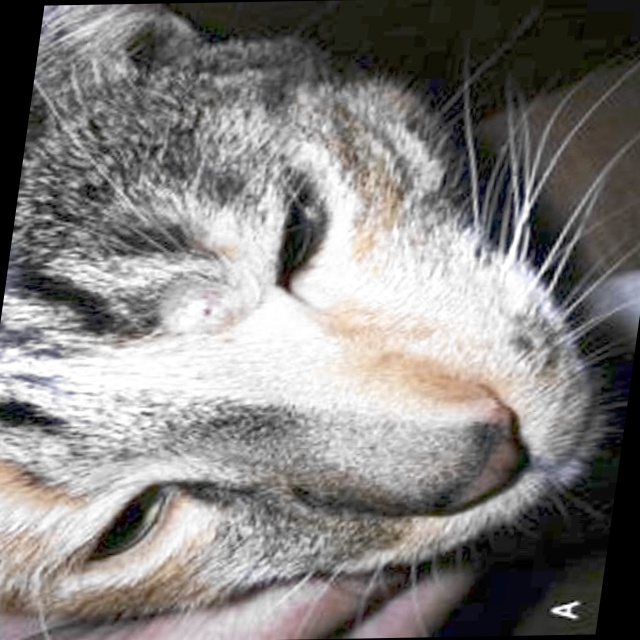lump_and_bump: (161, 278, 248, 333)
